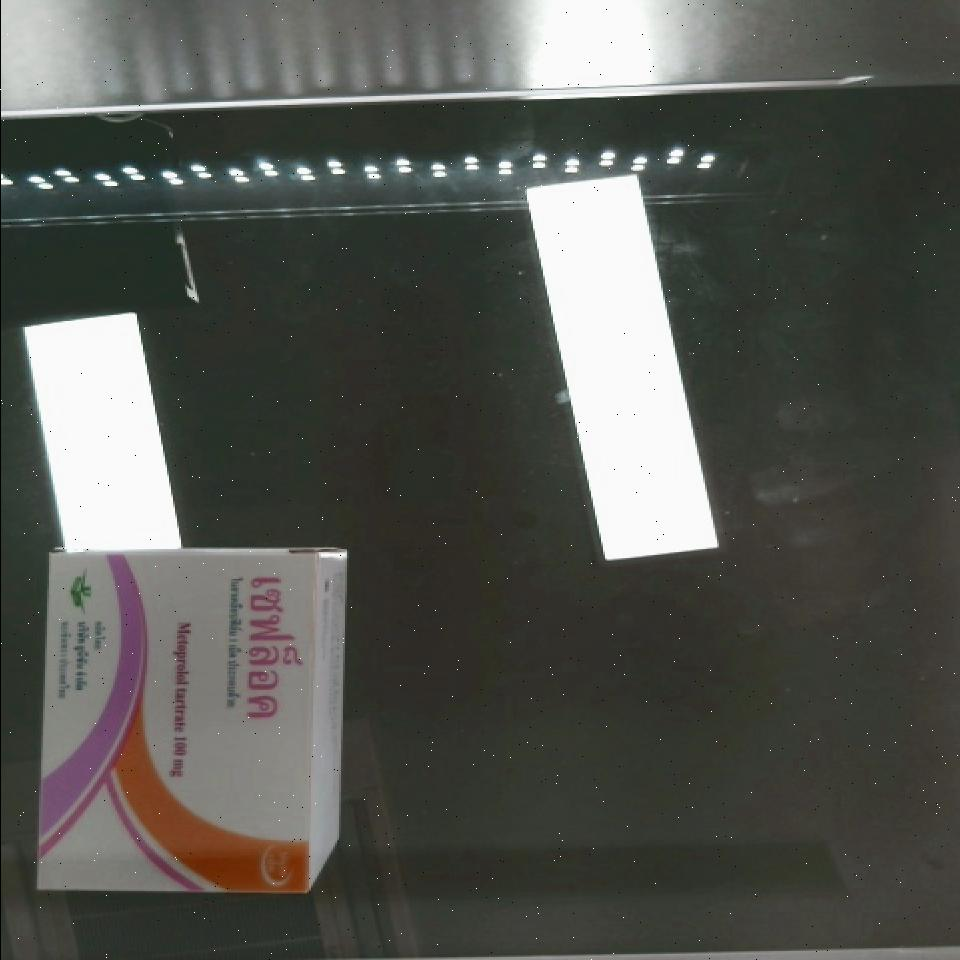medicine_box: (42, 537, 316, 897)
medicine_label_obb: (231, 546, 314, 741)
